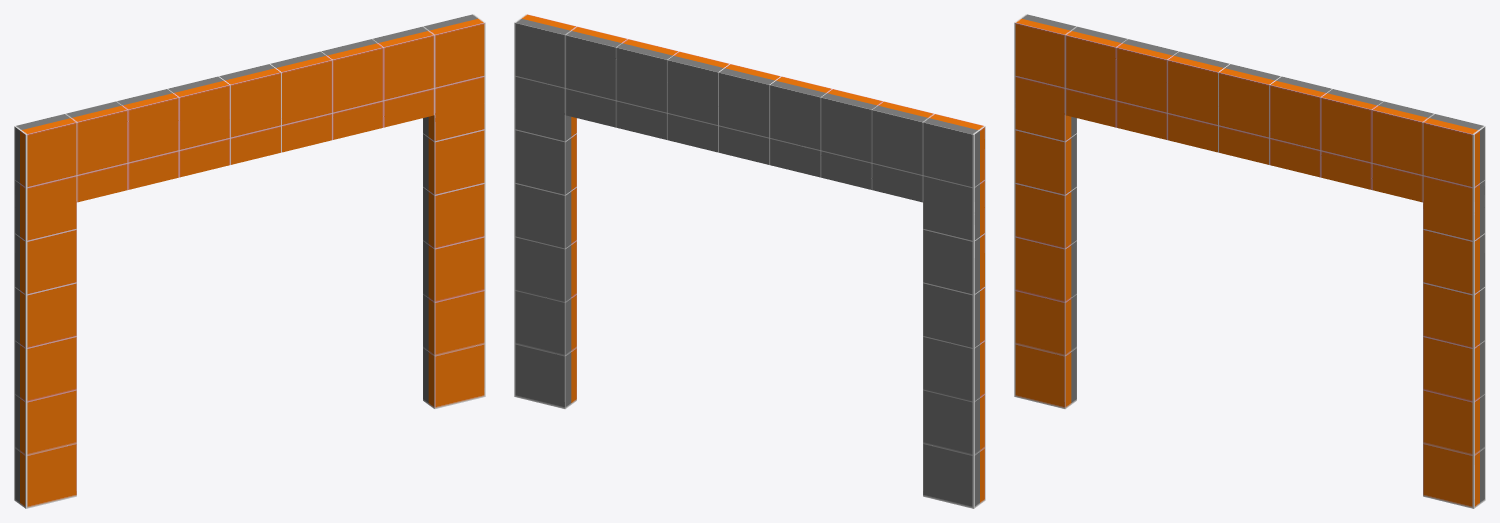
Rendered from M01WallDoorTypeC_1.FBX.
The picture shows the model from 3 angles, left to right: view 1: azimuth 30°, elevation 25°; view 2: azimuth 150°, elevation 25°; view 3: azimuth 330°, elevation 25°; orthographic projection.
Parts seen in each view (by area): view 1: M01WallDoorTypeC_1; view 2: M01WallDoorTypeC_1; view 3: M01WallDoorTypeC_1.
Boxes of the visible parts, box(x1,y1,x2,y2) form: M01WallDoorTypeC_1: box(14, 14, 485, 508); M01WallDoorTypeC_1: box(514, 14, 985, 508); M01WallDoorTypeC_1: box(1014, 14, 1485, 508).
Size of what is drawn, in the model's own units: 4.5 by 3.5 by 0.2.
